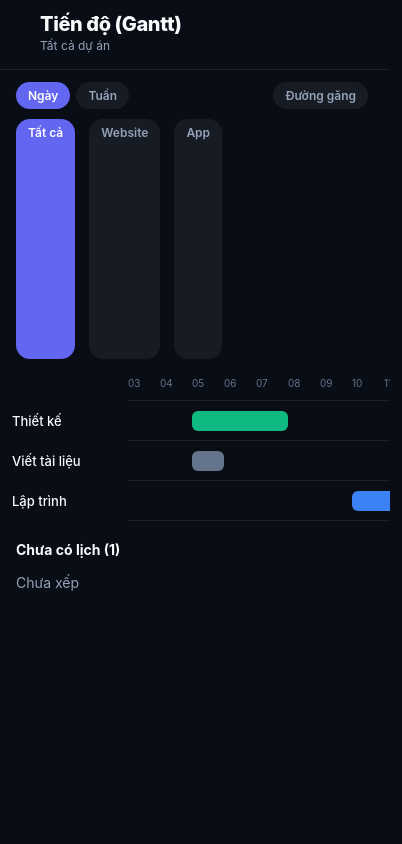
Test: bật đường găng: tóm tắt và đúng việc được đánh dấu
Expected: the element with test id "gantt-bar-A" is shown, [192,411,288,431]
Expected: the text "Đường găng: " is not shown
Click the text "Đường găng": click(321, 96) [285,88,356,103]
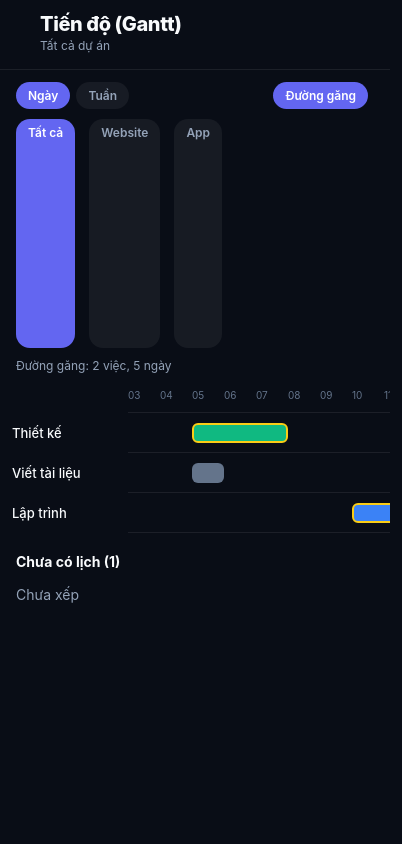
Expected: the text "Đường găng: 2 việc, 5 ngày" is shown, [16,358,172,372]
